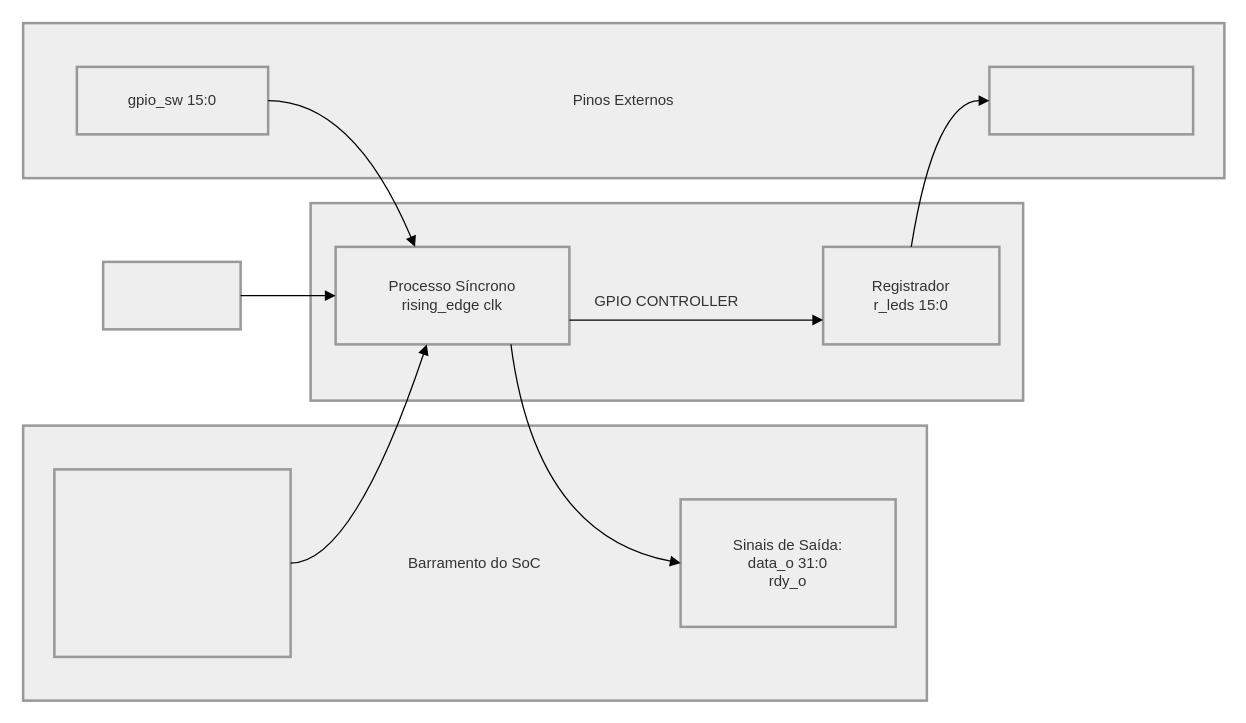
Some shapes in this 1246 by 723 pixel diagram are drawn without their labels. Here are the shapes that lost their labels. From the top down, the centre of each, then its label:
At point 1091,100: "gpio_leds 15:0".
At point 171,295: "clk, rst".
At point 171,563: "Sinais de Entrada: addr_i 3:0 data_i 31:0 we_i vld_i".
